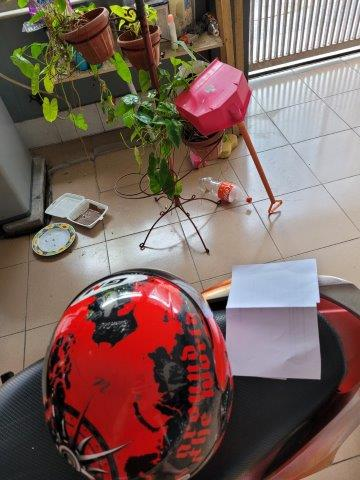botolplastik: (198, 177, 254, 206)
kertas: (219, 260, 324, 382)
